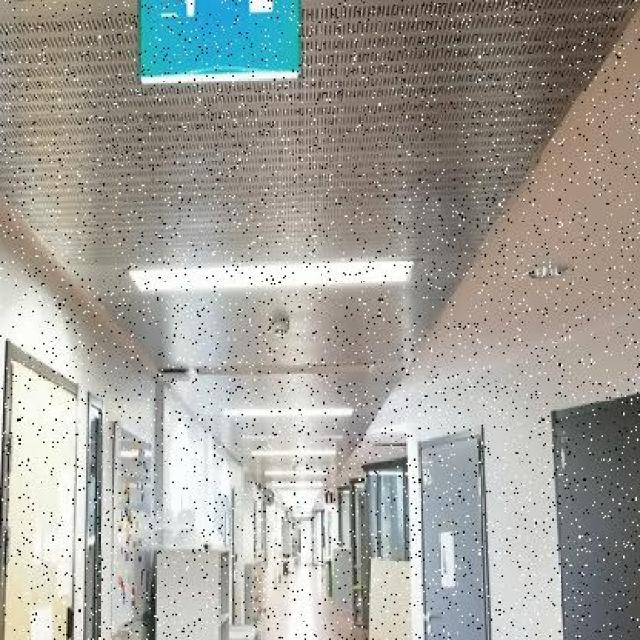emergency_exit: (136, 0, 303, 85)
